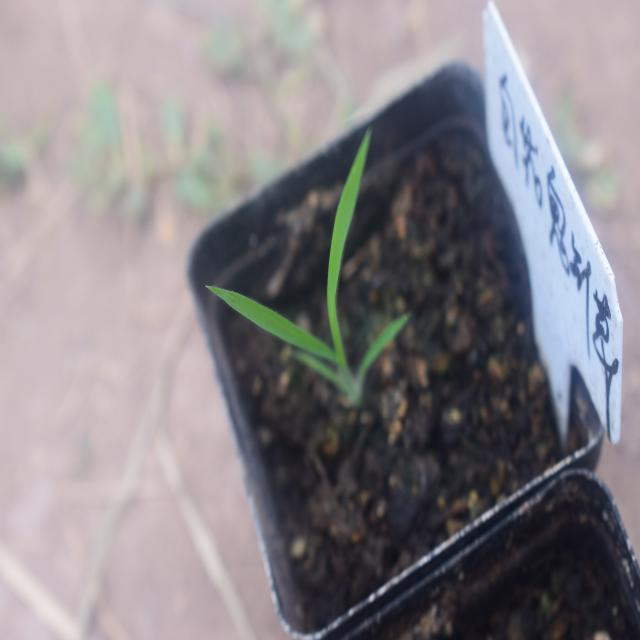crabgrass: (226, 116, 422, 408)
